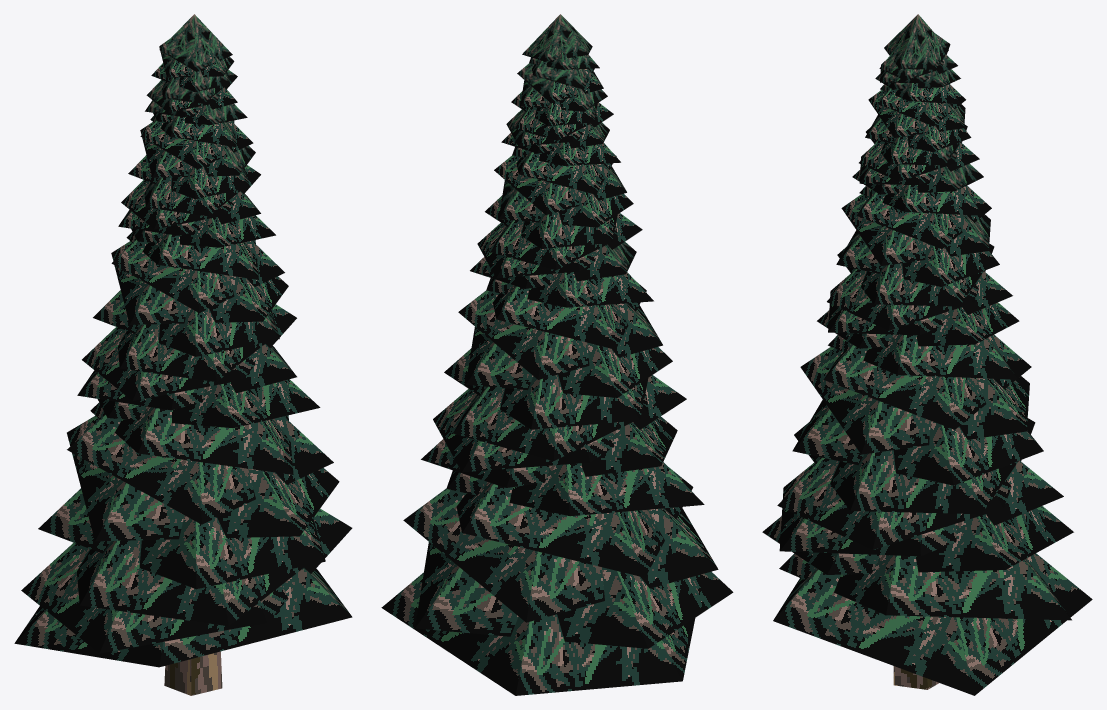
The model's file is tree.glb.
The picture shows the model from 3 angles, left to right: view 1: azimuth 30°, elevation 25°; view 2: azimuth 150°, elevation 25°; view 3: azimuth 270°, elevation 25°; orthographic projection.
Parts seen in each view (by area): view 1: tree; view 2: tree; view 3: tree.
Part boxes in pixels (<box>): tree: <box>14,14,352,695</box>; tree: <box>381,14,733,695</box>; tree: <box>762,14,1092,695</box>.
Bounding box in the file's own units: 5.71 × 12.03 × 5.43.
2 materials, 2 textured.
